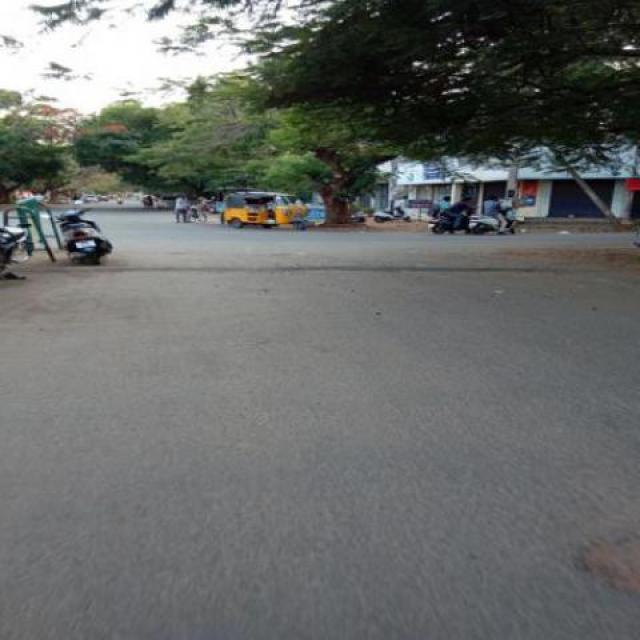Pothole: (574, 532, 640, 592)
Unmarked Bump: (15, 262, 597, 276)
